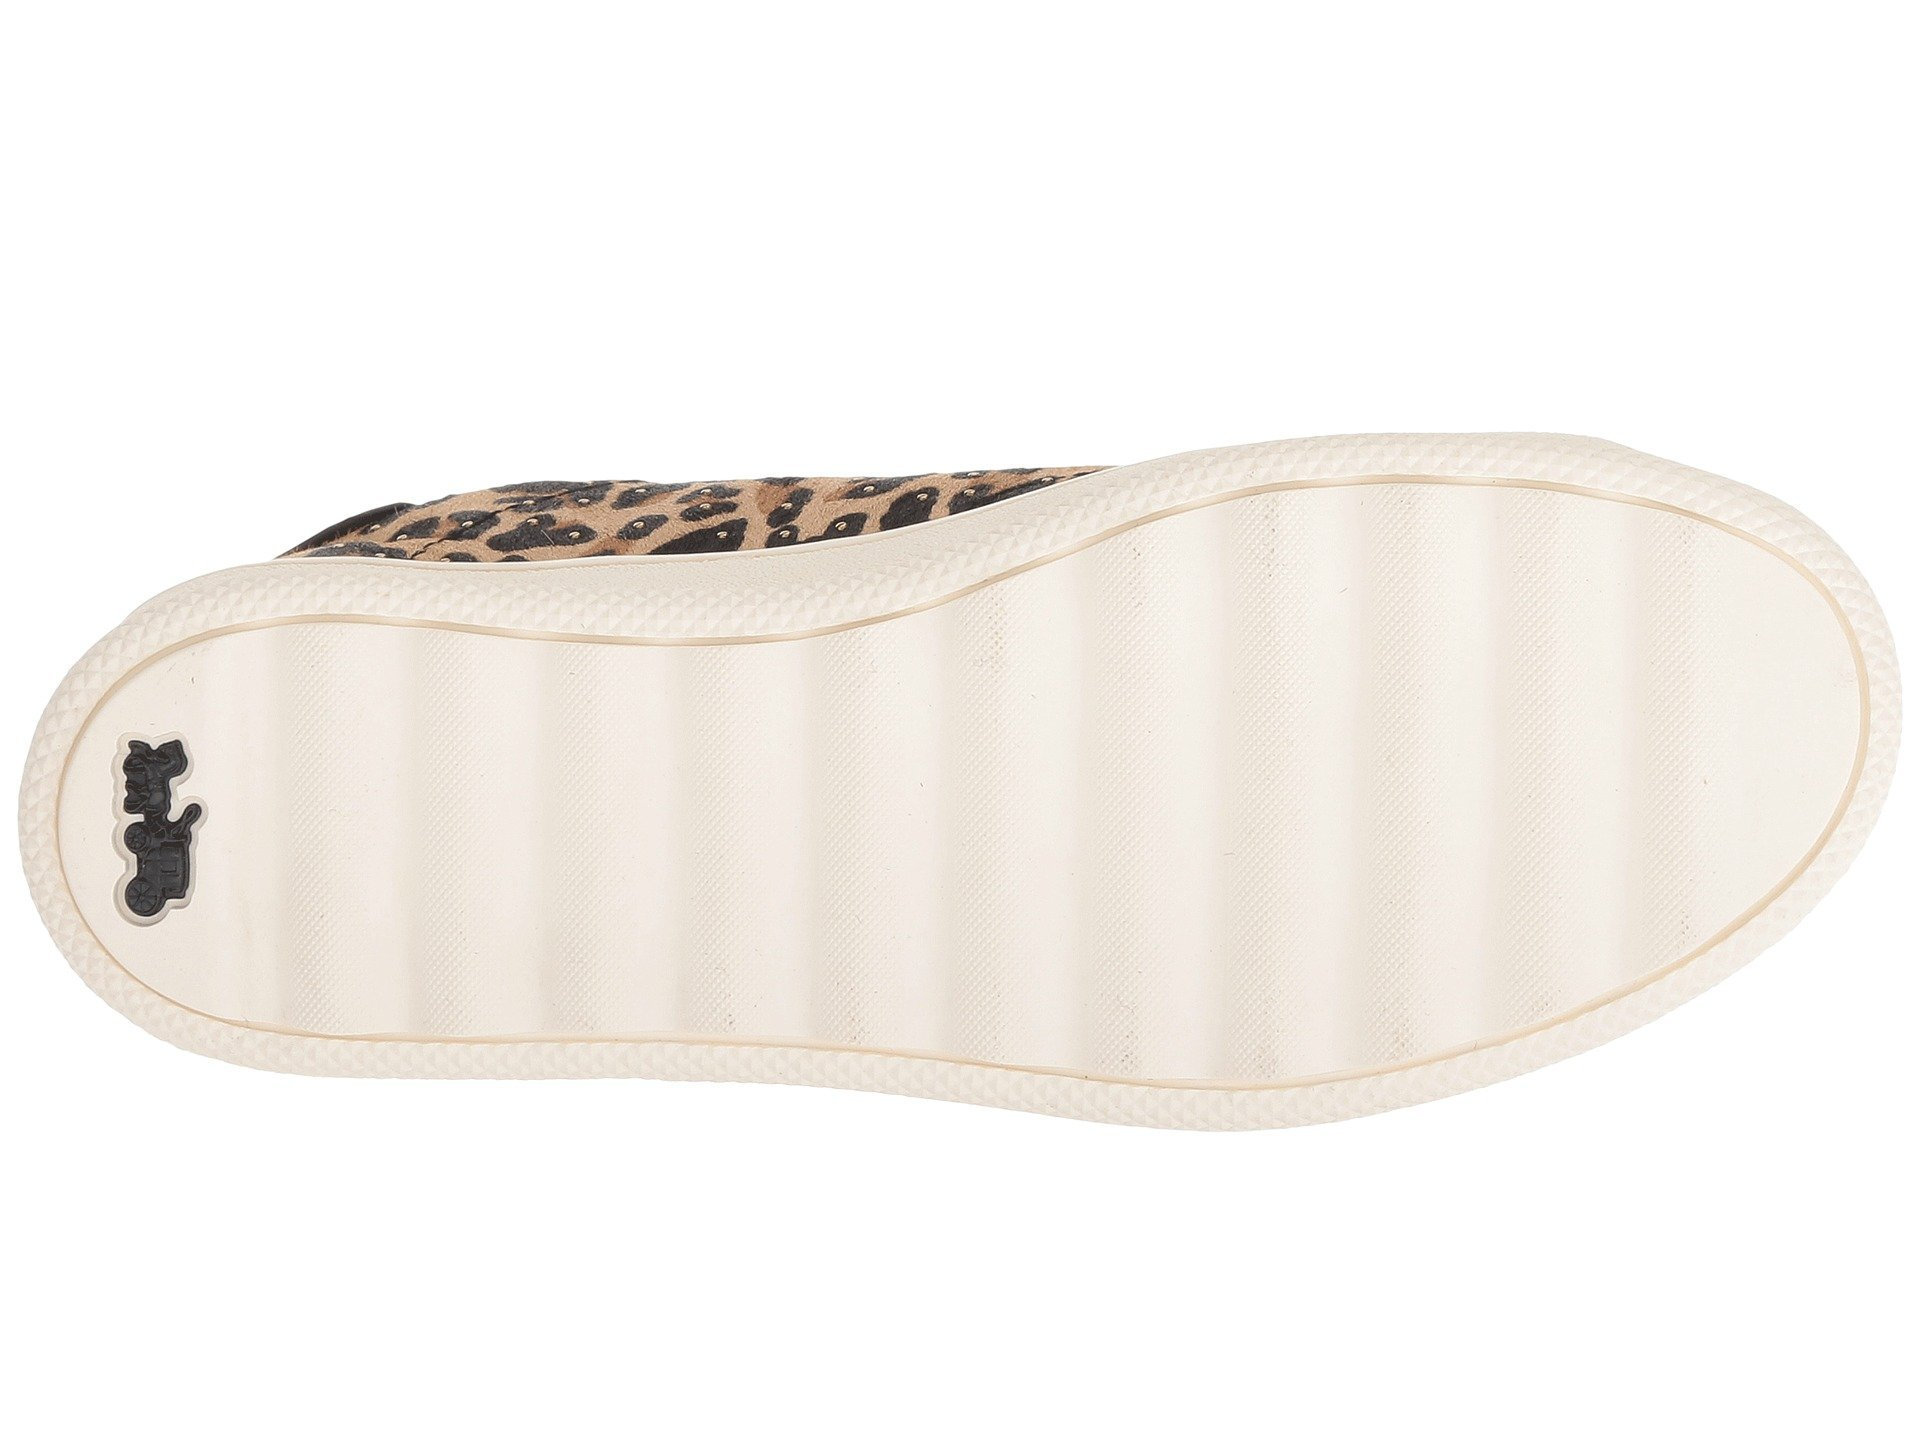line: (1060, 525, 1568, 1024), (562, 669, 992, 1063)
text: (91, 722, 243, 930)
